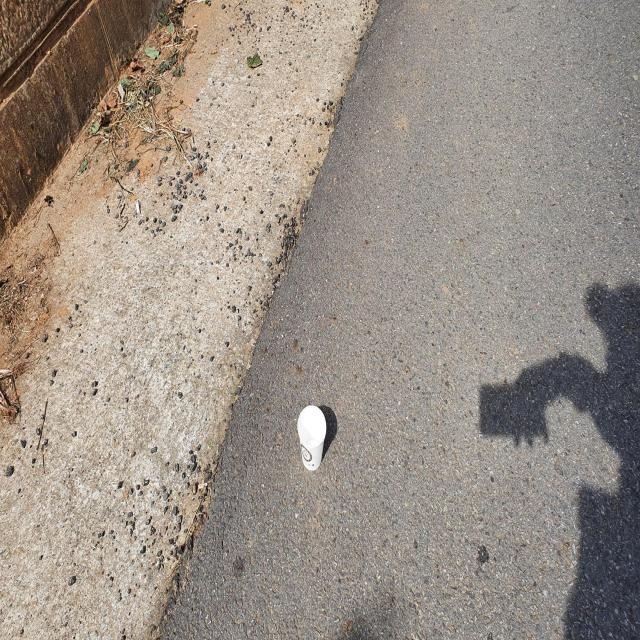paperpack: (297, 406, 327, 471)
